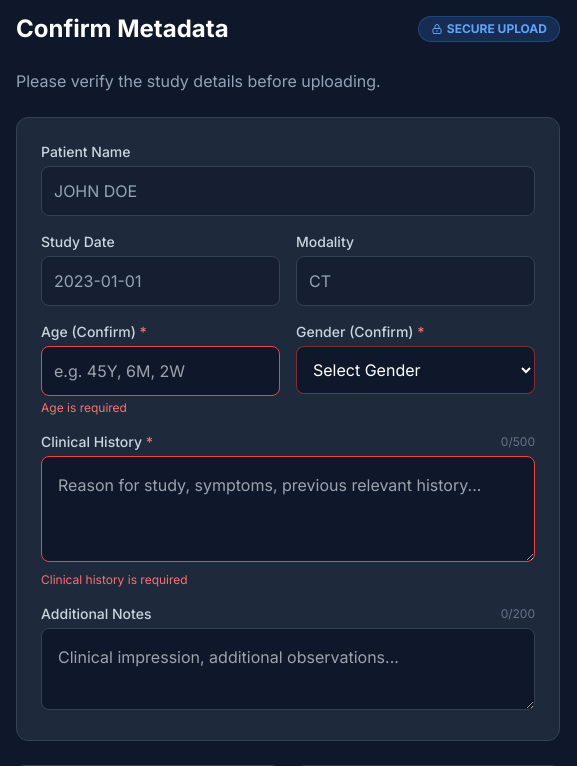
MetadataConfirmation Page › shows error for invalid age format
Type "invalid" into the field labelled "Age (Confirm) *" at [160, 371], box [41,346,280,396]
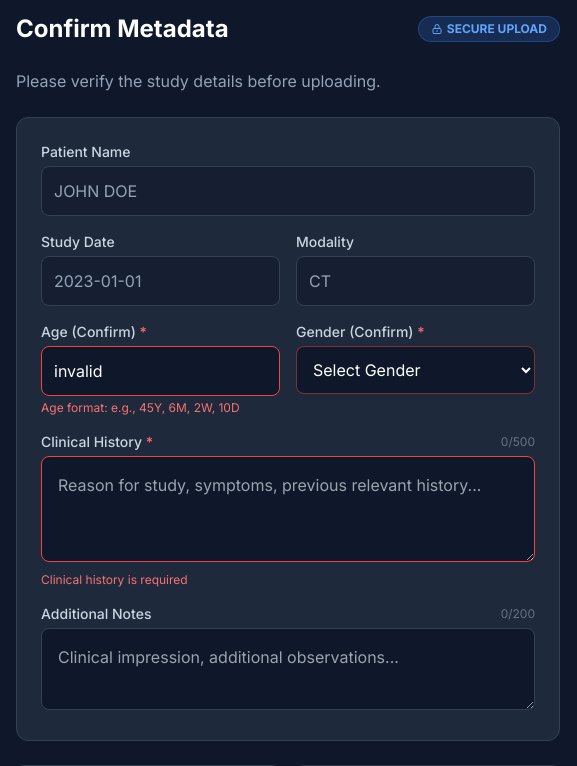
Result: the text "Age format: e.g., 45Y, 6M, 2W, 10D" is shown at [41,400,240,415]
